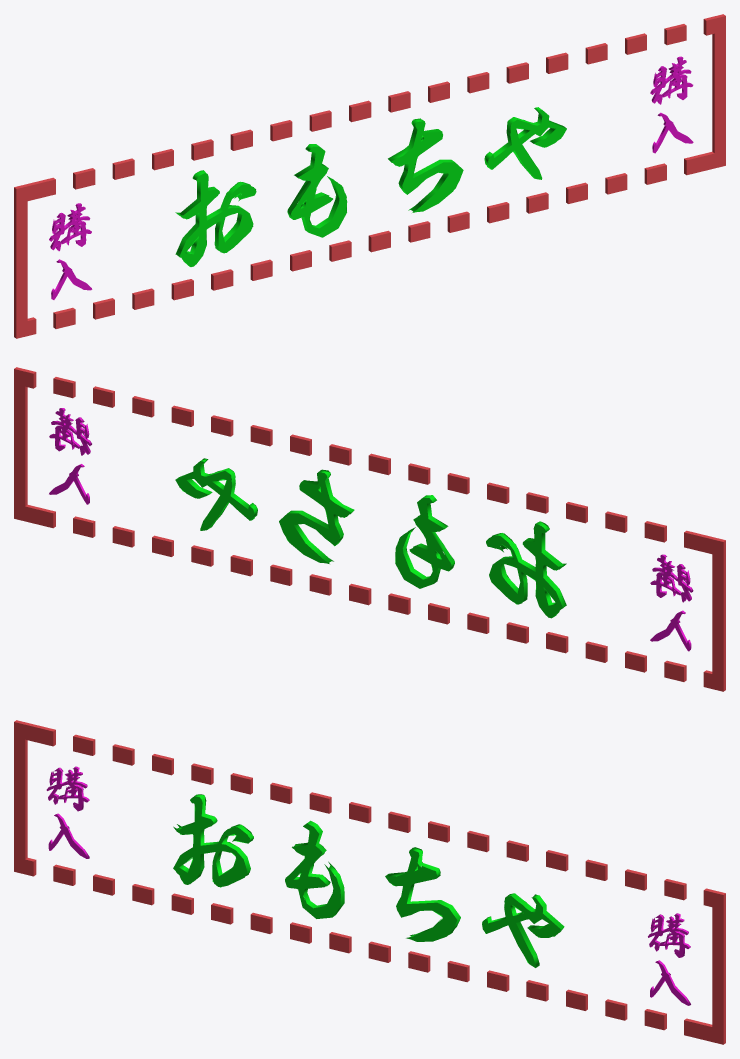
Rendered from BilbordOne.fbx.
The picture shows the model from 3 angles, top to bottom: view 1: azimuth 30°, elevation 25°; view 2: azimuth 150°, elevation 25°; view 3: azimuth 330°, elevation 25°; orthographic projection.
Visible parts, largest first — view 1: Plane.019, Text.009, Text.010, Text.011; view 2: Plane.019, Text.009, Text.010, Text.011; view 3: Plane.019, Text.009, Text.011, Text.010.
Part boxes in pixels (x1=…): Plane.019: x1=14, y1=14, x2=725, y2=338; Text.009: x1=175, y1=107, x2=566, y2=266; Text.010: x1=650, y1=56, x2=693, y2=153; Text.011: x1=49, y1=203, x2=92, y2=299; Plane.019: x1=14, y1=367, x2=725, y2=691; Text.009: x1=175, y1=458, x2=566, y2=618; Text.010: x1=49, y1=408, x2=91, y2=504; Text.011: x1=650, y1=554, x2=693, y2=651; Plane.019: x1=14, y1=720, x2=725, y2=1044; Text.009: x1=173, y1=794, x2=564, y2=967; Text.011: x1=46, y1=766, x2=89, y2=858; Text.010: x1=648, y1=913, x2=690, y2=1005.
Size of the model in its own units: 49.56 by 10 by 0.5231.
